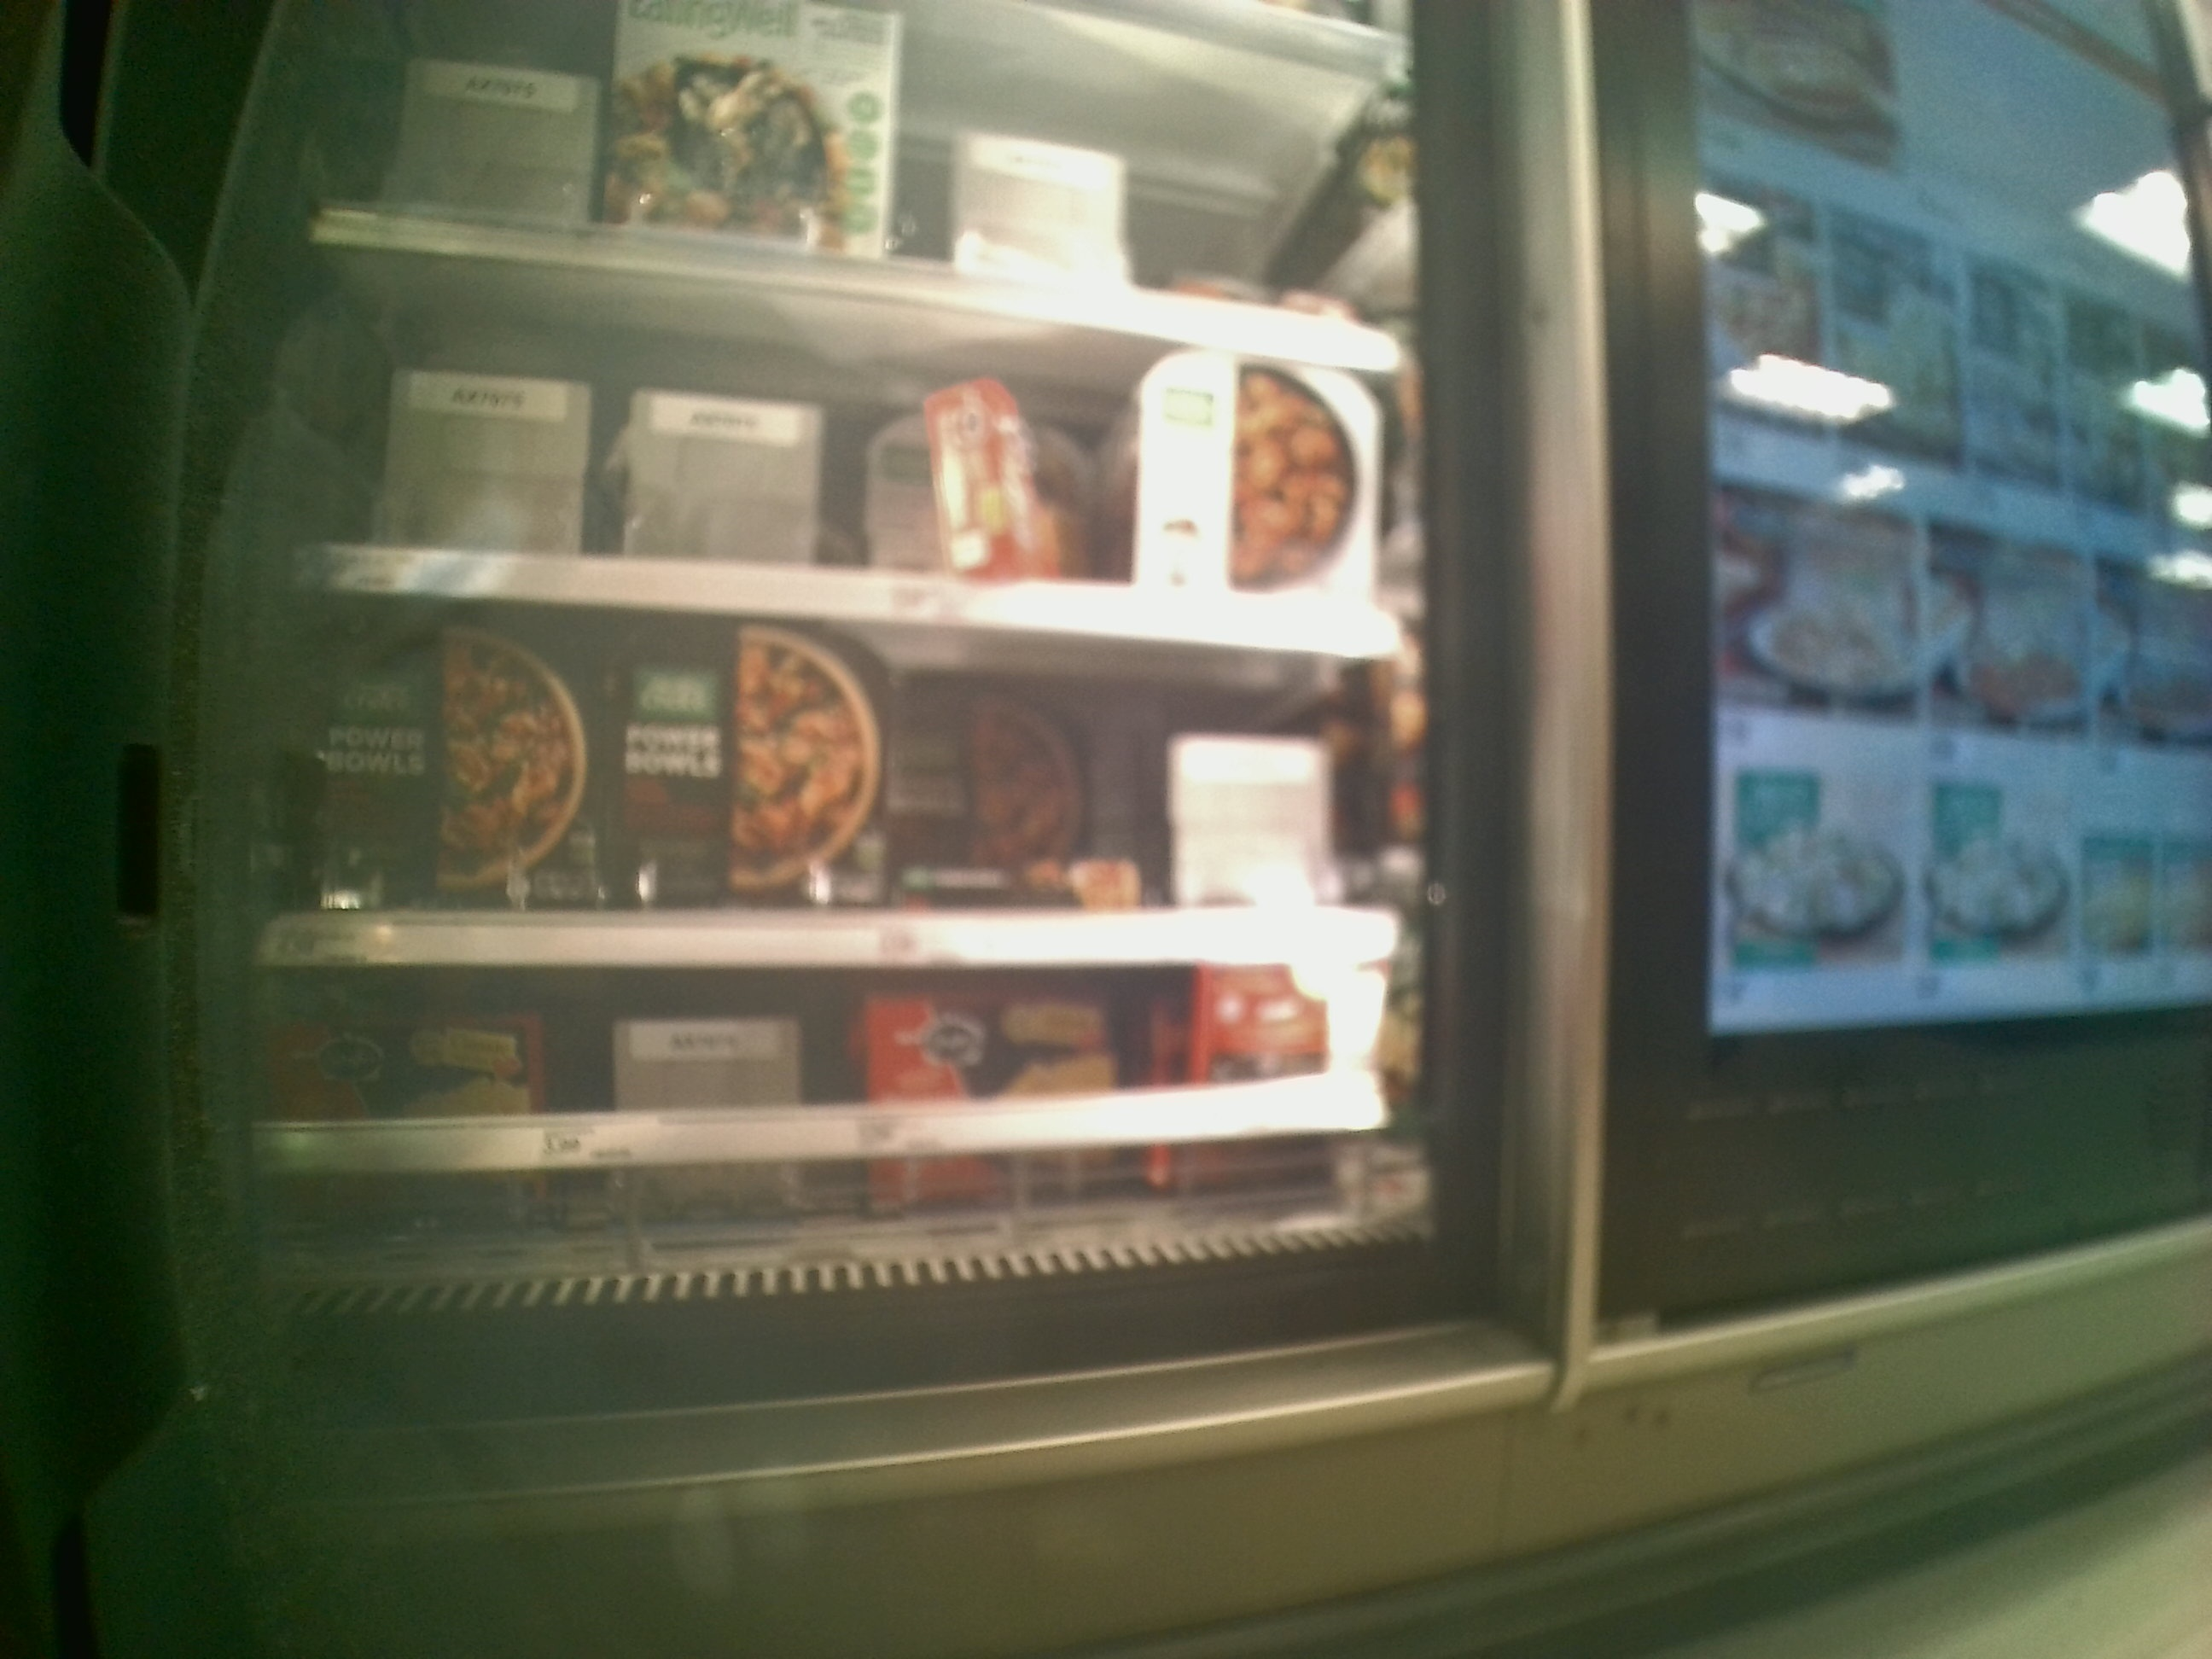shelf: (284, 234, 1418, 648), (279, 601, 1393, 964), (233, 972, 1439, 1279)
